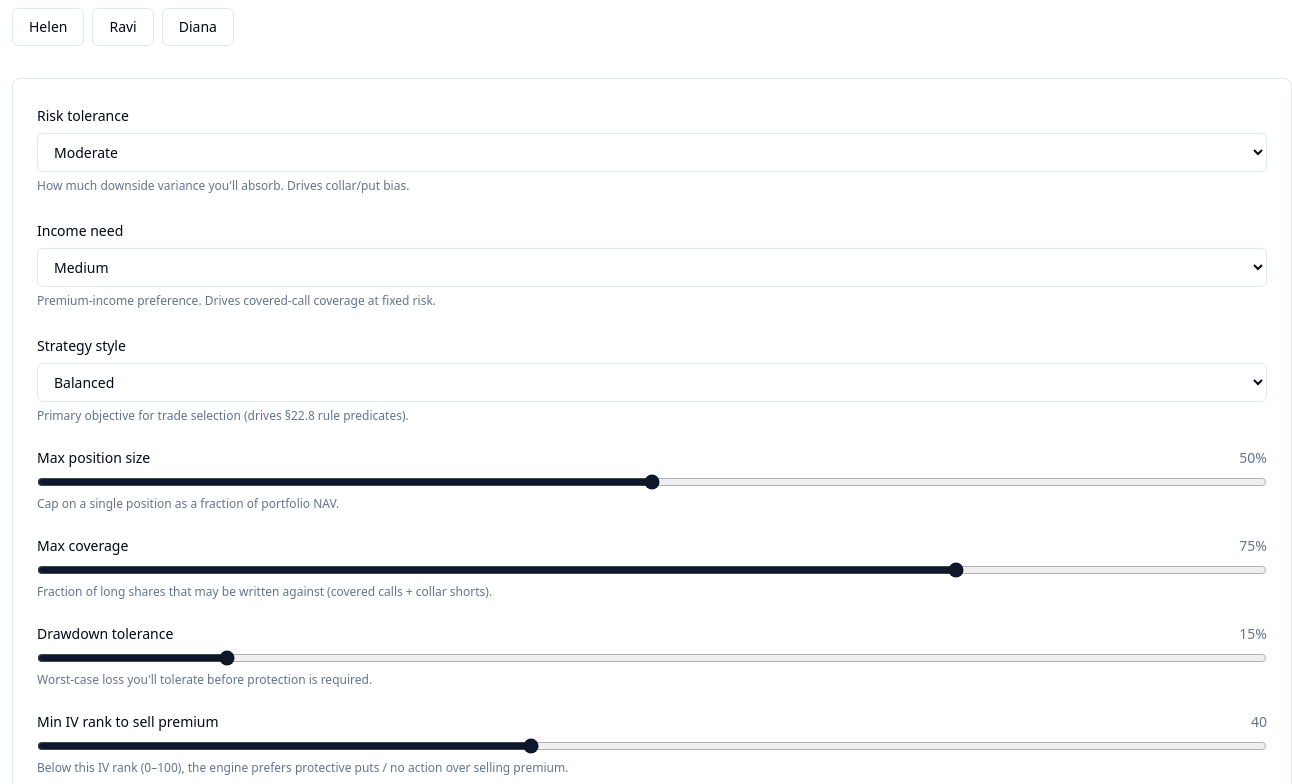
Test: UserStrategyProfileForm › restores the saved profile when Reset is clicked
Select "Growth" in the dropdown with test id "field-style" at (652, 382), box x1=37 y1=363 x2=1267 y2=402
(page scrolled)
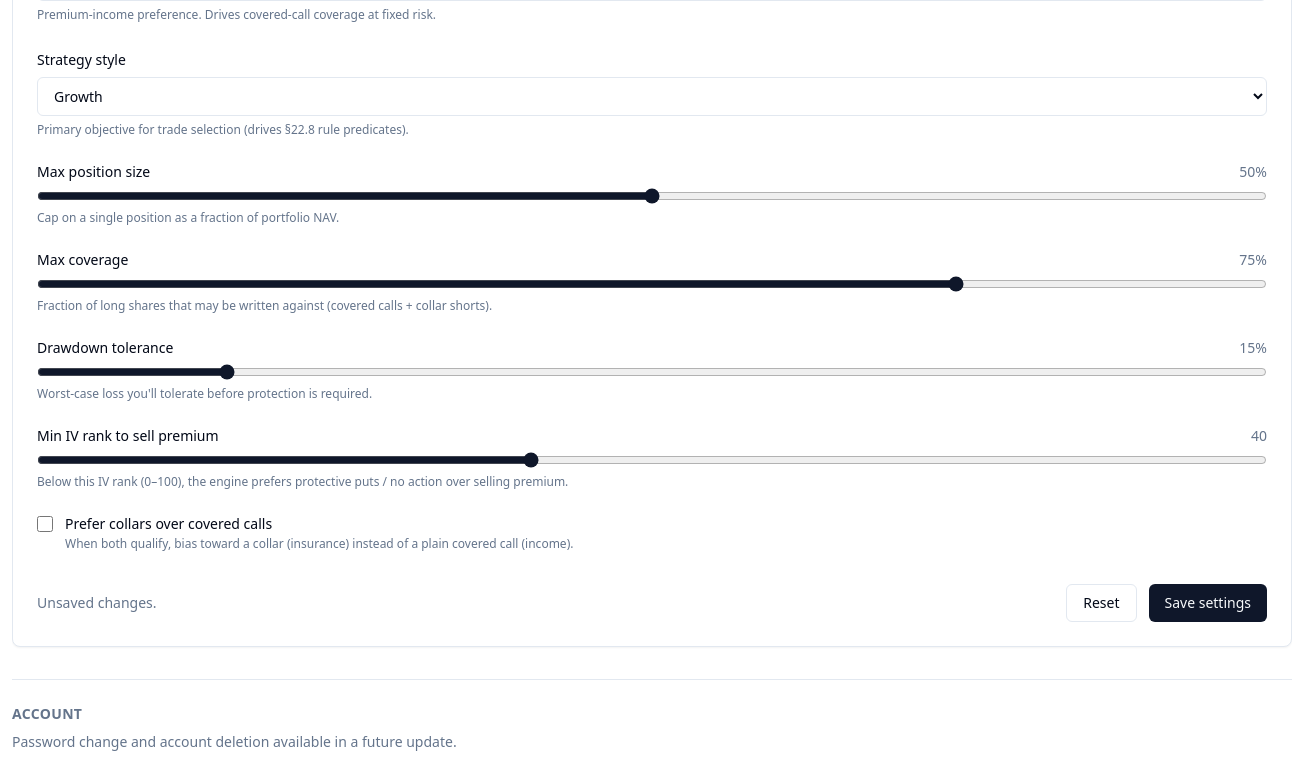
Click the button with test id "reset-button" at (1101, 603), box x1=1066 y1=584 x2=1137 y2=622
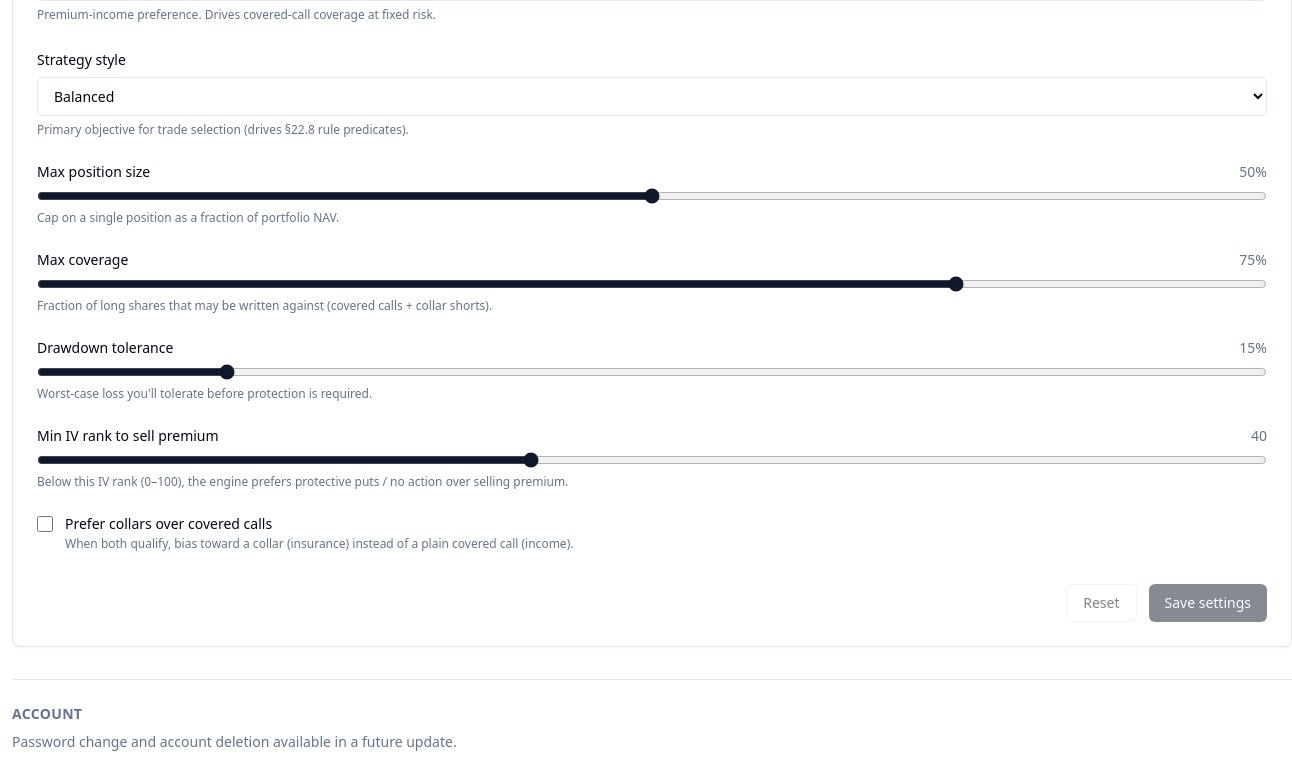
Now the button with test id "save-button" is disabled, box x1=1148 y1=584 x2=1267 y2=622
